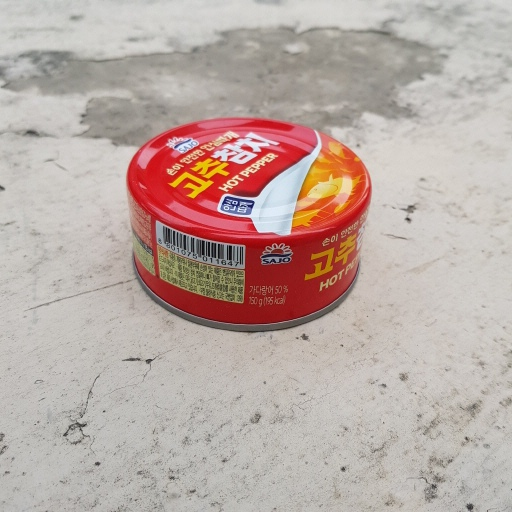Metal_1: (123, 117, 374, 335)
